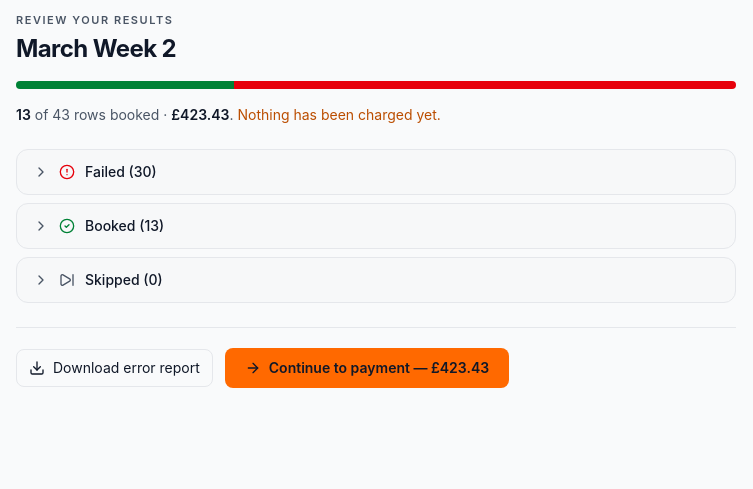
Test: a failed row with no usable error text still explains itself
Click the button "Failed (30)" at (105, 171), box [17, 150, 735, 194]
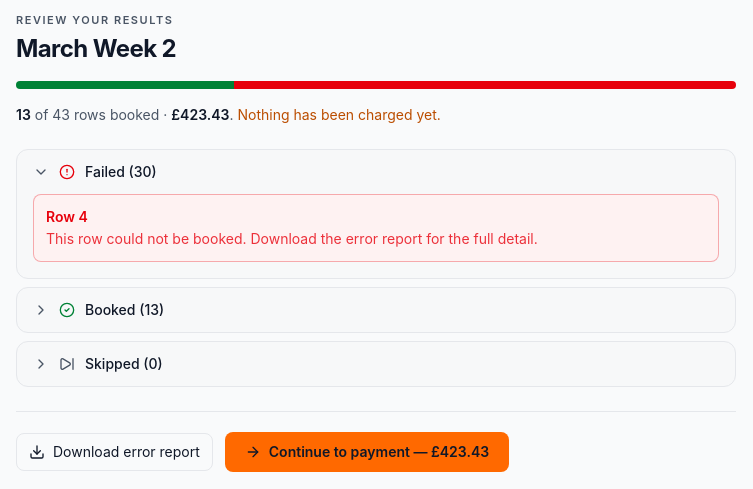
Expected: the text "could not be booked" is shown, [46, 230, 538, 246]
